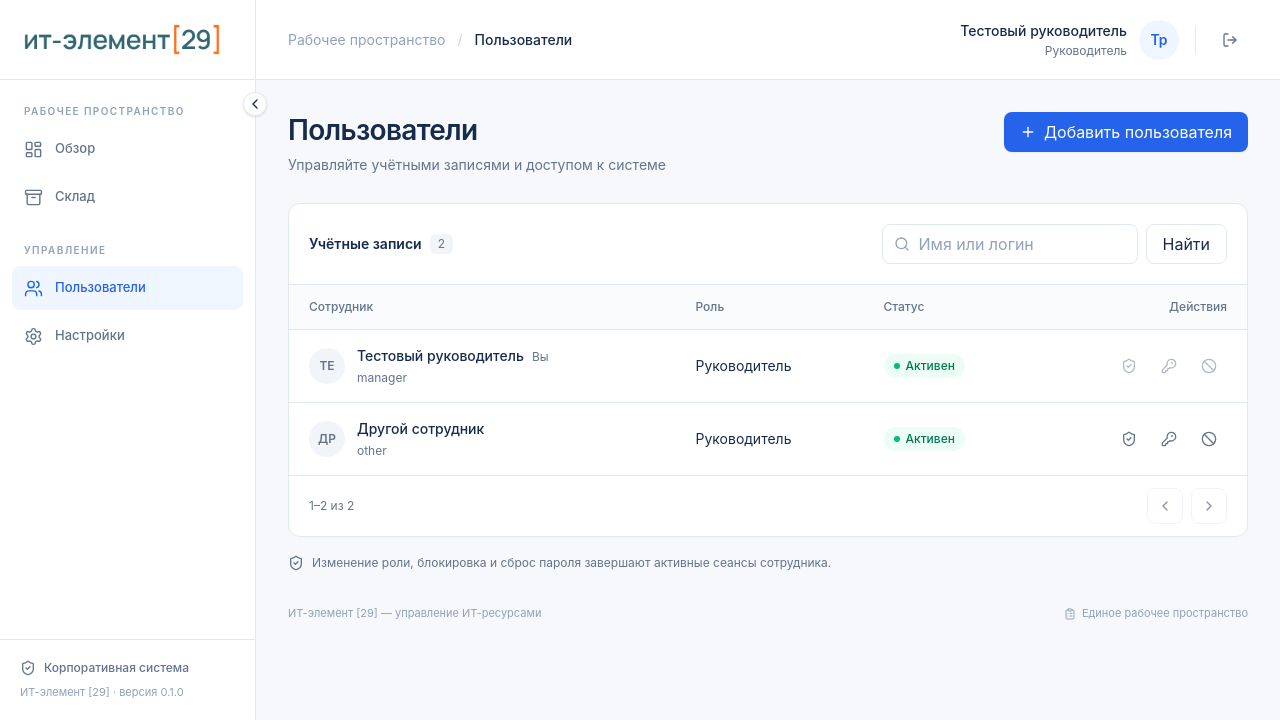
Авторизация и интерфейс › блокировка требует подтверждения и отправляет is_active=false
This screenshot has width=1280, height=720.
What coordinates should you click on to do the following:
click the button named "Заблокировать" in the row of "Другой сотрудник"
I would click on:
 (1209, 439)
Its box is [1191,421,1227,457].
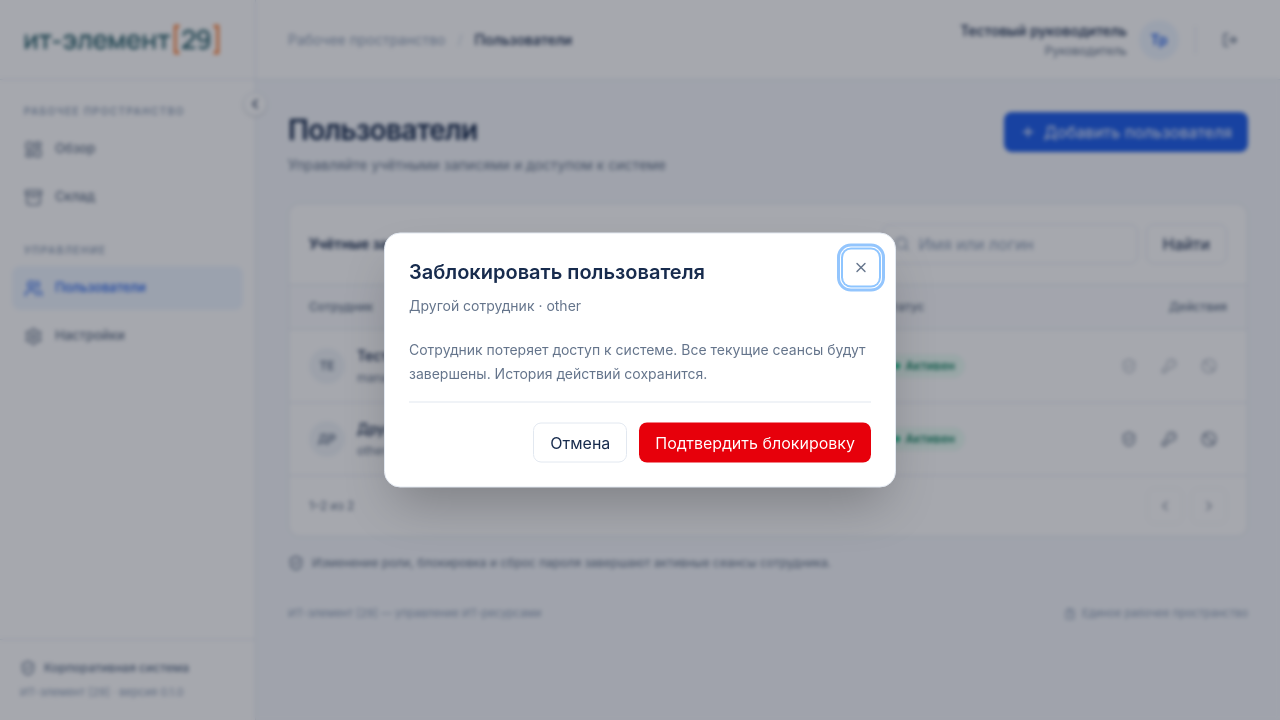
What coordinates should you click on to do the following:
click the button "Подтвердить блокировку"
I would click on:
 (755, 442)
Its box is [639,422,871,462].
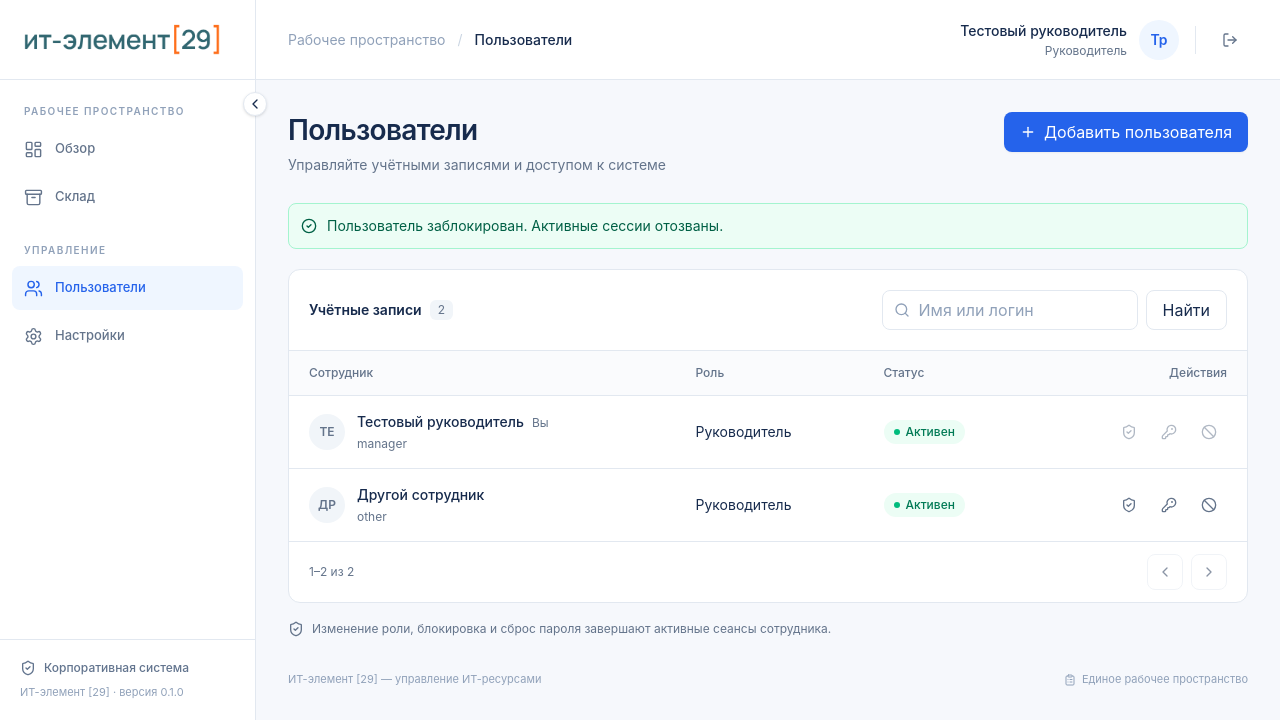
Result: the text "Пользователь заблокирован. Активные сессии отозваны." is shown at [288,203,1248,249]
